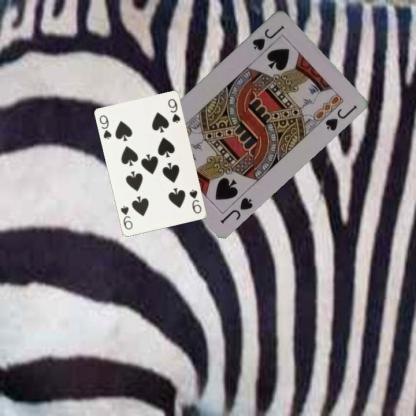9s: (186, 187, 202, 215), (97, 112, 113, 140)
Js: (218, 194, 256, 225), (250, 22, 286, 52)
